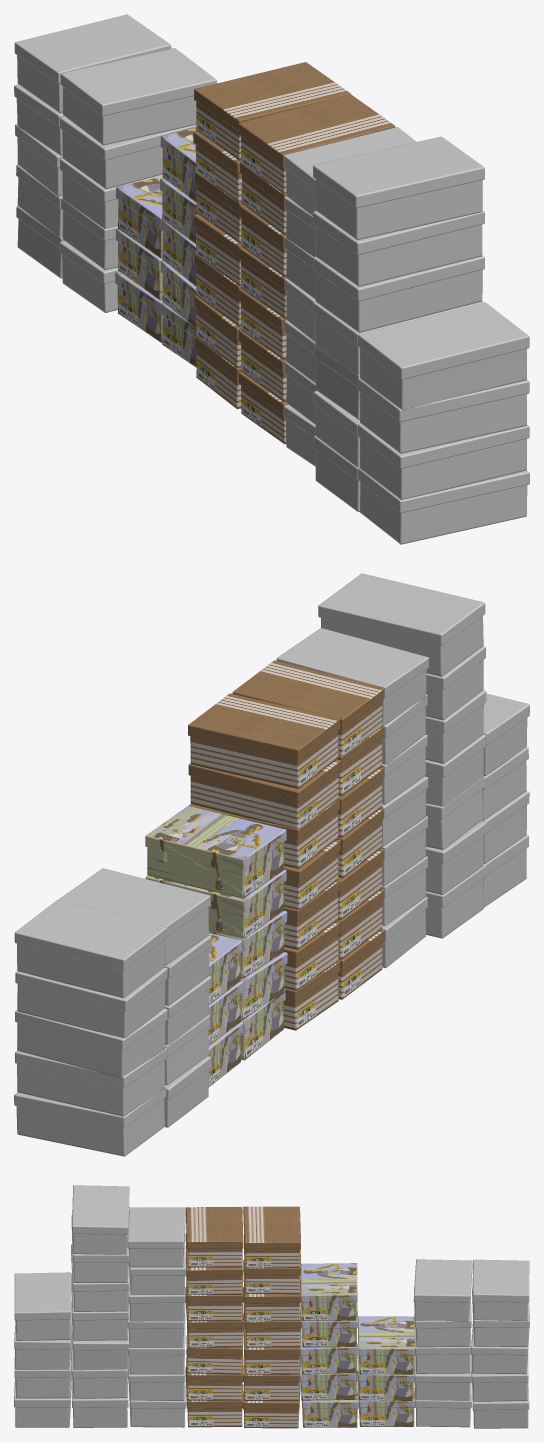
The model's file is M_Clothes_Boxes.fbx.
3 renders of one model, top to bottom at view 1: azimuth 30°, elevation 25°; view 2: azimuth 150°, elevation 25°; view 3: azimuth 270°, elevation 25°, orthographic. The views are drawn at different scales.
Parts seen in each view (by area): view 1: Arch_44__048_32, Arch_44__048_29, Arch_44__048_52, Arch_44__048_28, Arch_44__048_27, Arch_44__048_34, Arch_44__048_33, Arch_44__048_35, Arch_44__048_47, Arch_44__048_16, Arch_44__048_10, Arch_44__048_51 (+38 smaller); view 2: Arch_44__048_47, Arch_44__048_10, Arch_44__048_29, Arch_44__048_39, Arch_44__048_23, Arch_44__048_16, Arch_44__048_52, Arch_44__048_48, Arch_44__048_9, Arch_44__048_46, Arch_44__048_45, Arch_44__048_44 (+38 smaller); view 3: Arch_44__048_29, Arch_44__048_32, Arch_44__048_52, Arch_44__048_10, Arch_44__048_16, Arch_44__048_47, Arch_44__048_23, Arch_44__048_41, Arch_44__048_39, Arch_44__048_35, Arch_44__048_34, Arch_44__048_33 (+38 smaller).
Boxes of the visible parts, x1,y1,x2,y2 form: Arch_44__048_32: (357,302,529,410); Arch_44__048_29: (313,136,484,240); Arch_44__048_52: (60,48,216,145); Arch_44__048_28: (313,211,484,286); Arch_44__048_27: (313,255,484,332); Arch_44__048_34: (357,423,529,499); Arch_44__048_33: (358,467,529,544); Arch_44__048_35: (357,378,529,453); Arch_44__048_47: (14,14,171,112); Arch_44__048_16: (238,94,395,193); Arch_44__048_10: (194,62,350,160); Arch_44__048_51: (59,116,196,189); Arch_44__048_47: (14,900,167,998); Arch_44__048_10: (188,693,340,788); Arch_44__048_29: (318,573,485,676); Arch_44__048_39: (145,806,286,898); Arch_44__048_23: (276,628,428,726); Arch_44__048_16: (232,660,384,755); Arch_44__048_52: (58,868,210,965); Arch_44__048_48: (14,1086,166,1156); Arch_44__048_9: (188,759,340,828); Arch_44__048_46: (15,967,167,1038); Arch_44__048_45: (15,1008,167,1078); Arch_44__048_44: (15,1047,167,1116); Arch_44__048_29: (72,1185,129,1254); Arch_44__048_32: (14,1272,71,1340); Arch_44__048_52: (413,1259,472,1321); Arch_44__048_10: (243,1206,300,1267); Arch_44__048_16: (186,1207,243,1267); Arch_44__048_47: (472,1259,529,1321); Arch_44__048_23: (127,1207,185,1267); Arch_44__048_41: (358,1316,414,1374); Arch_44__048_39: (300,1263,357,1320); Arch_44__048_35: (14,1301,72,1369); Arch_44__048_34: (14,1331,71,1398); Arch_44__048_33: (14,1362,71,1427).
Size of the model in its own units: 37.78 by 87.8 by 201.
